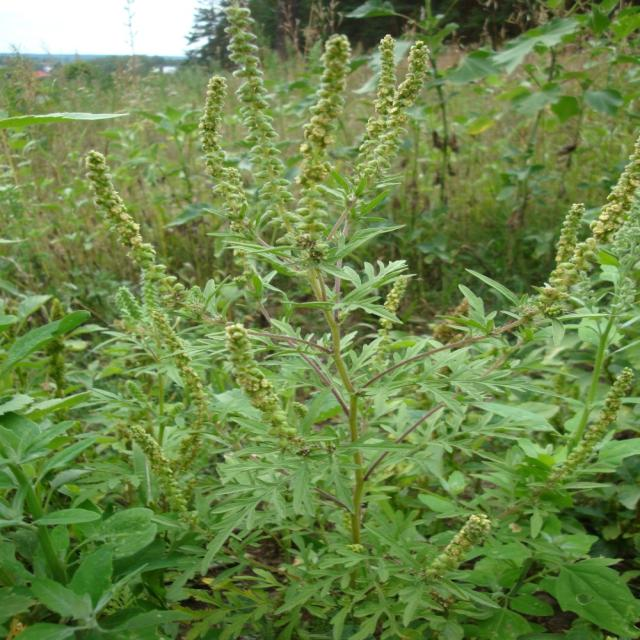ambrosia: (41, 144, 227, 515), (489, 163, 640, 336), (372, 482, 525, 638), (213, 2, 309, 215), (318, 29, 439, 180), (512, 355, 628, 509), (222, 316, 321, 495)
